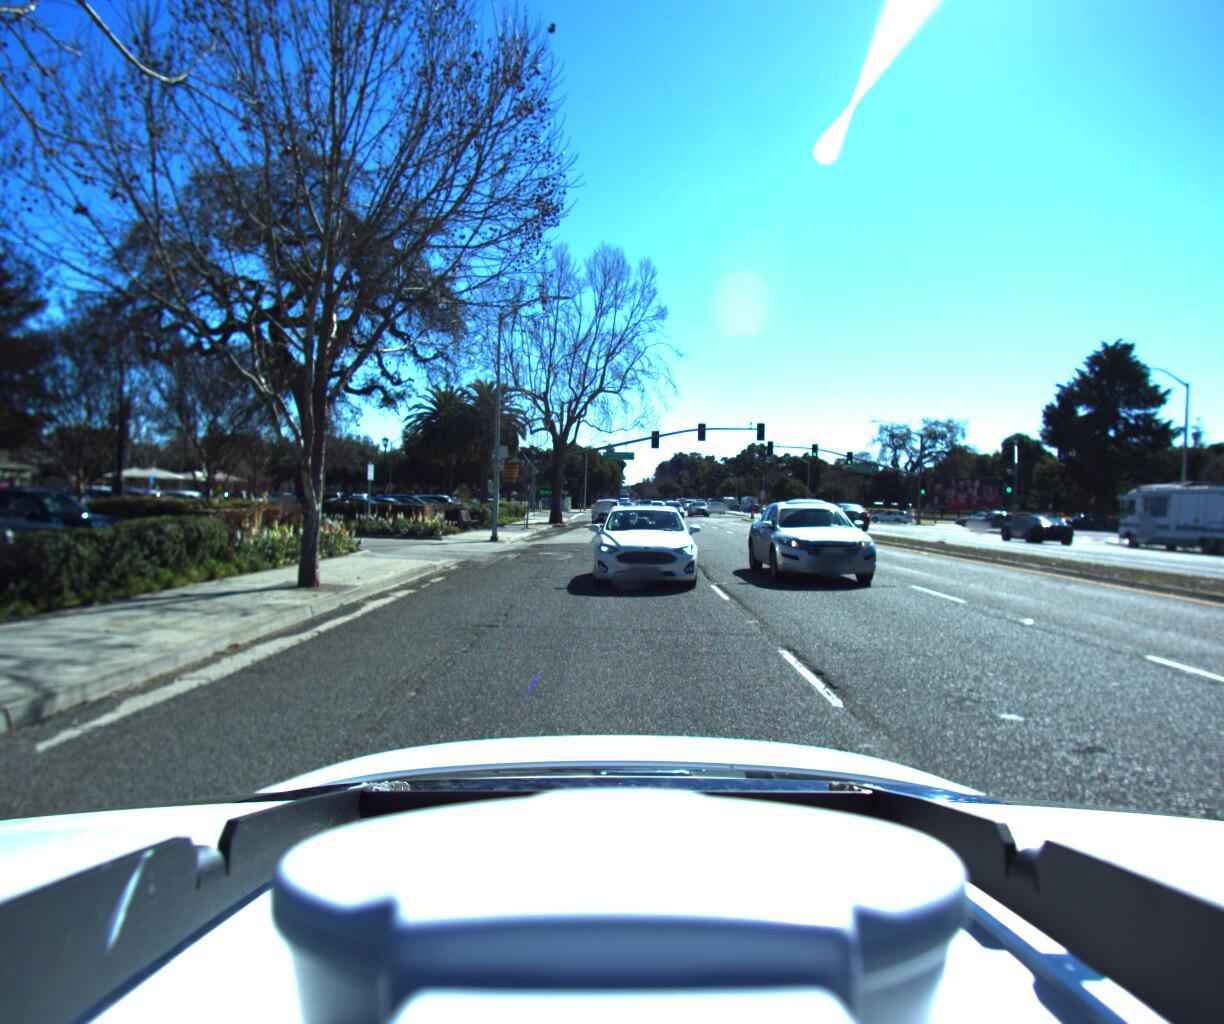car: (747, 497, 909, 595), (0, 484, 152, 586), (587, 500, 699, 593), (0, 482, 85, 604), (0, 460, 27, 612), (773, 496, 841, 541), (982, 507, 1061, 539), (407, 491, 479, 520), (817, 499, 877, 533), (588, 497, 623, 526)
other_vehicle: (1107, 471, 1224, 565)
